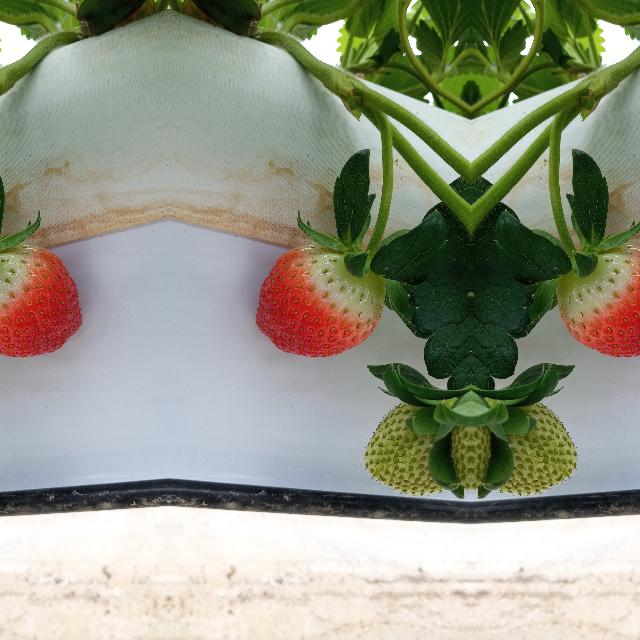Health_100: (253, 241, 387, 359), (554, 241, 640, 359), (0, 241, 83, 359)
Health_25: (346, 399, 452, 503), (490, 399, 594, 503)
